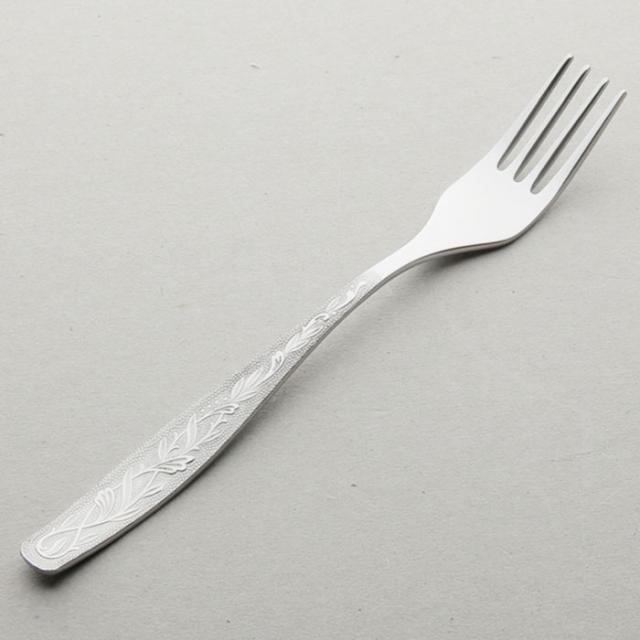plastic utensil: (21, 56, 625, 574)
